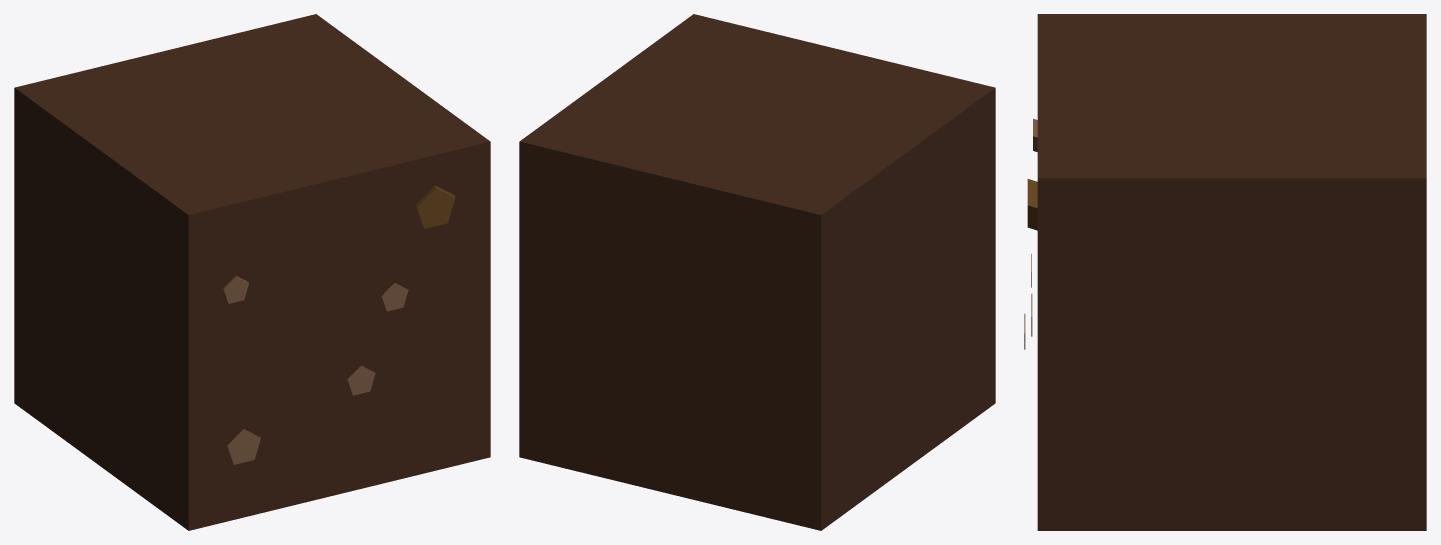
File: wallTileWood.glb
The picture shows the model from 3 angles, left to right: view 1: azimuth 30°, elevation 25°; view 2: azimuth 150°, elevation 25°; view 3: azimuth 270°, elevation 25°; orthographic projection. The views are drawn at different scales.
Parts seen in each view (by area): view 1: Cube; view 2: Cube; view 3: Cube.
Boxes of the visible parts, x1,y1,x2,y2 form: Cube: [14, 14, 490, 530]; Cube: [519, 14, 995, 530]; Cube: [1024, 14, 1426, 530].
Bounding box in the file's own units: 1 × 1 × 1.03.
Materials: 1 (1 with a texture image).
